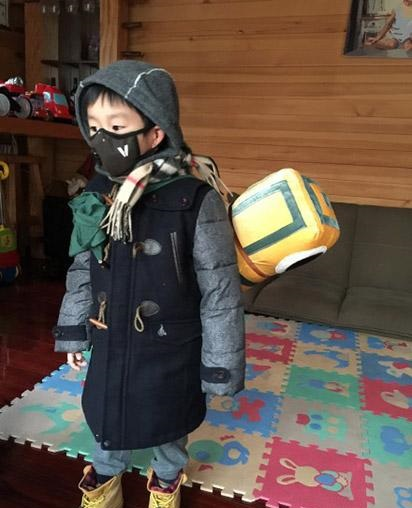face_mask: (86, 92, 145, 172)
